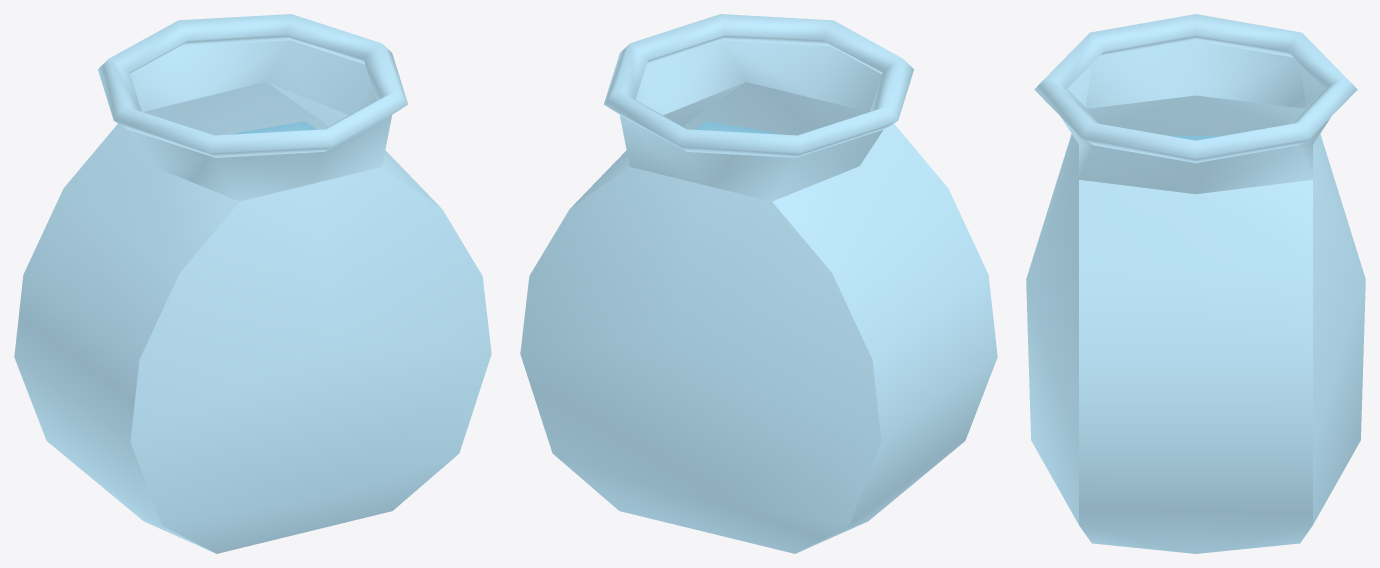
The picture shows the model from 3 angles, left to right: view 1: azimuth 30°, elevation 25°; view 2: azimuth 150°, elevation 25°; view 3: azimuth 270°, elevation 25°; orthographic projection.
Visible parts, largest first — view 1: Bowl_Glass_0; view 2: Bowl_Glass_0; view 3: Bowl_Glass_0.
Part boxes in pixels (box(x1,y1,x2,y2)): Bowl_Glass_0: box(14, 14, 491, 553); Bowl_Glass_0: box(520, 14, 997, 553); Bowl_Glass_0: box(1026, 14, 1365, 553).
Bounding box in the file's own units: 70.14 × 77.89 × 56.7.
3 materials, 3 textured.
